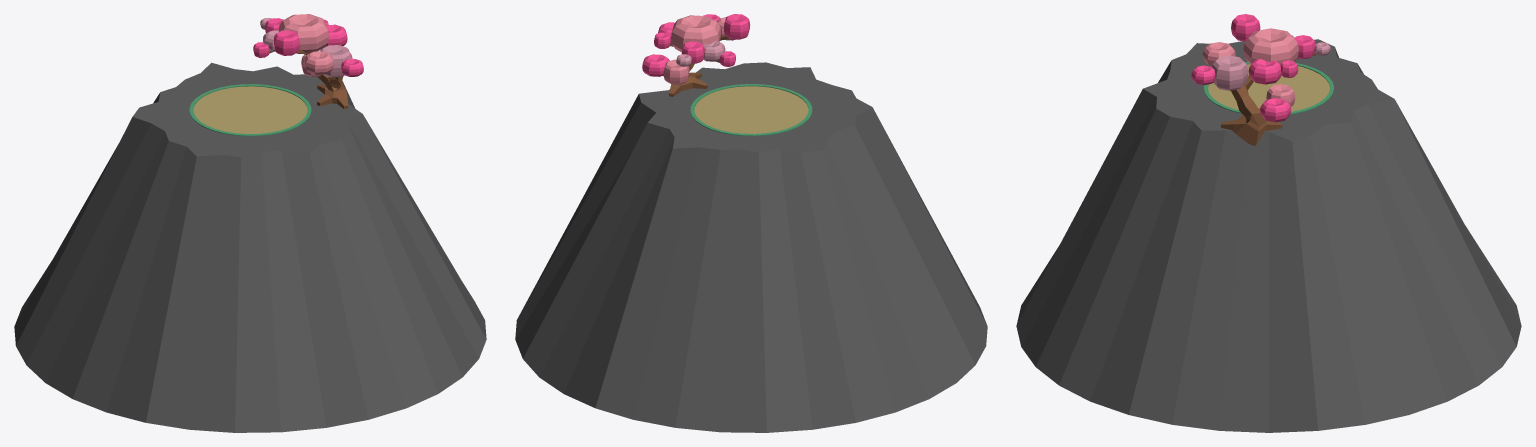
The model's file is HomeTown_001.fbx.
3 views of the same model, side by side, from view 1: azimuth 30°, elevation 25°; view 2: azimuth 150°, elevation 25°; view 3: azimuth 270°, elevation 25° (orthographic). The views are drawn at different scales.
Parts seen in each view (by area): view 1: GroundRock, GroundInnerRing, Blossom_0.001, GroundRing, TreeTrunk, Blossom_0.005, Blossom_1.001, Blossom_1.005; view 2: GroundRock, GroundInnerRing, Blossom_0.001, GroundRing, Blossom_1.001, TreeTrunk, Blossom_1.003, Blossom_0.007; view 3: GroundRock, GroundInnerRing, TreeTrunk, Blossom_0.001, Blossom_1.005, Blossom_0.006, Blossom_0.007, Blossom_1.001, GroundRing, Blossom_0.005.
Boxes of the visible parts, left/top/right/bottom form: GroundRock: left=14, top=62, right=486, bottom=432; GroundInnerRing: left=193, top=86, right=307, bottom=133; Blossom_0.001: left=278, top=14, right=328, bottom=53; GroundRing: left=189, top=84, right=311, bottom=136; TreeTrunk: left=269, top=49, right=348, bottom=108; Blossom_0.005: left=304, top=51, right=333, bottom=74; Blossom_1.001: left=273, top=30, right=300, bottom=55; Blossom_1.005: left=320, top=45, right=351, bottom=77; GroundRock: left=515, top=62, right=987, bottom=432; GroundInnerRing: left=694, top=86, right=808, bottom=133; Blossom_0.001: left=671, top=15, right=721, bottom=52; GroundRing: left=690, top=84, right=812, bottom=136; Blossom_1.001: left=723, top=14, right=750, bottom=39; TreeTrunk: left=663, top=35, right=728, bottom=96; Blossom_1.003: left=663, top=59, right=689, bottom=84; Blossom_0.007: left=642, top=54, right=669, bottom=76; GroundRock: left=1016, top=39, right=1521, bottom=432; GroundInnerRing: left=1208, top=64, right=1329, bottom=111; TreeTrunk: left=1213, top=53, right=1316, bottom=145; Blossom_0.001: left=1243, top=28, right=1298, bottom=64; Blossom_1.005: left=1212, top=55, right=1248, bottom=90; Blossom_0.006: left=1248, top=59, right=1281, bottom=84; Blossom_0.007: left=1260, top=98, right=1291, bottom=122; Blossom_1.001: left=1231, top=14, right=1260, bottom=41; GroundRing: left=1203, top=62, right=1334, bottom=114; Blossom_0.005: left=1202, top=42, right=1235, bottom=66.
Size of the model in its own units: 30.83 by 30.83 by 21.61.
